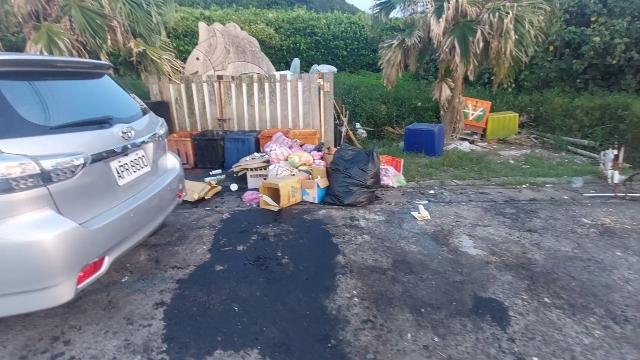pollute: (145, 101, 408, 213), (446, 93, 519, 150), (583, 145, 639, 197), (404, 123, 443, 156), (410, 204, 430, 219)
